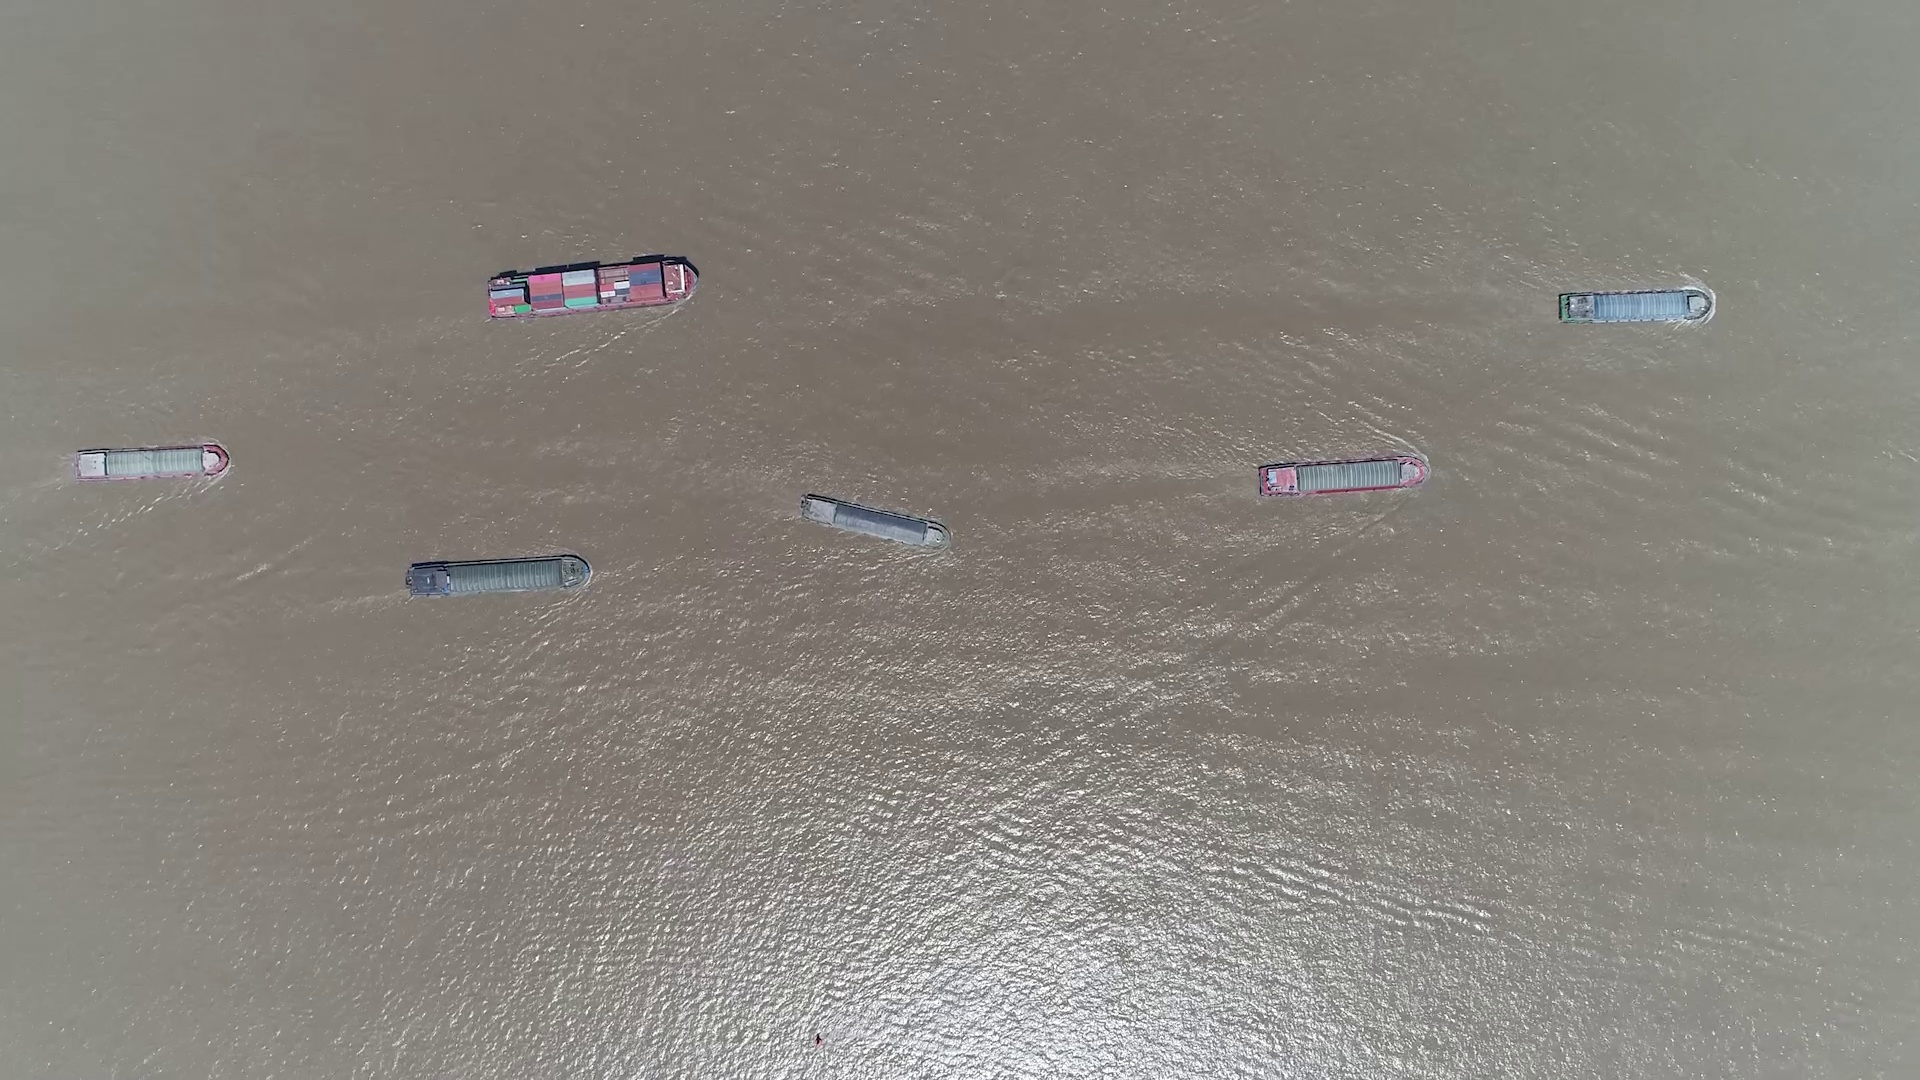ship: (485, 258, 698, 318), (799, 495, 949, 549), (405, 554, 589, 597), (1261, 456, 1429, 498), (74, 446, 229, 481), (1560, 290, 1710, 323)
